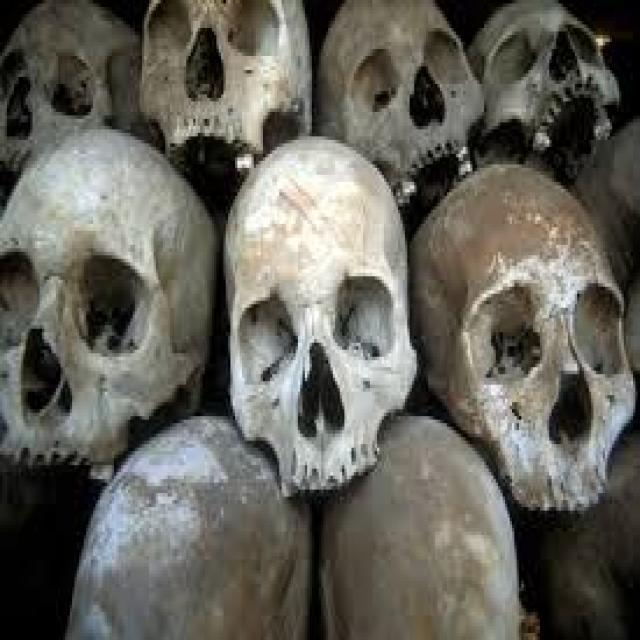skull: (214, 127, 419, 500)
